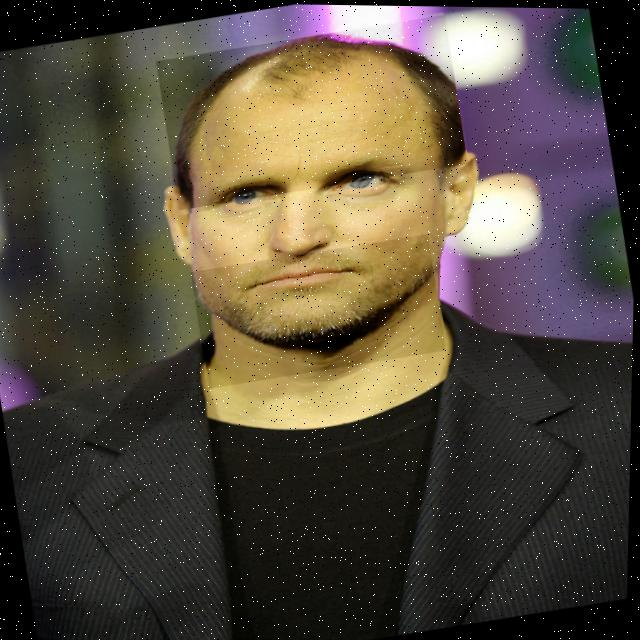beard: (195, 251, 435, 386)
hair: (173, 33, 464, 200)
